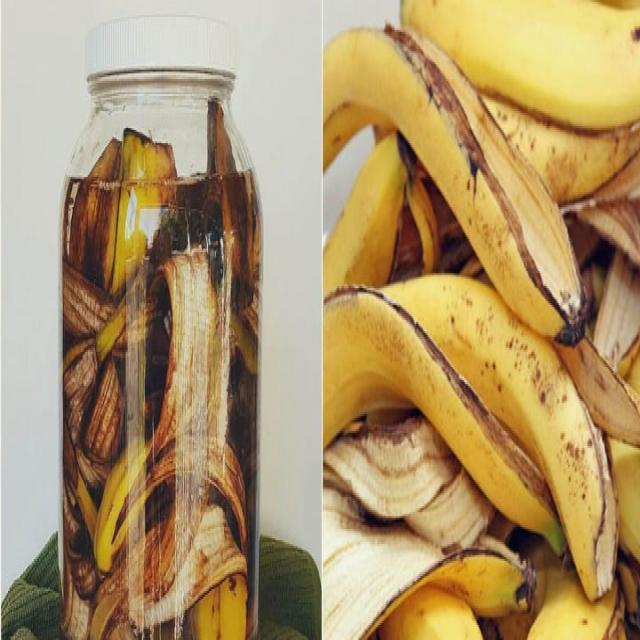Cascara de banano: (323, 281, 618, 606)
